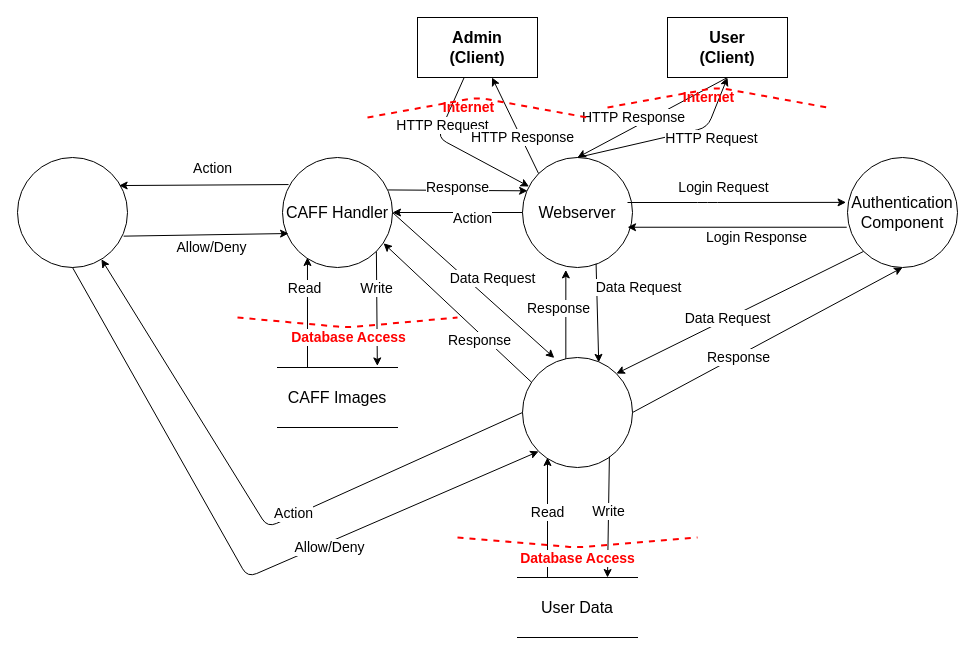
Image size: 975x655. Some labels were removed from this diagram. Here are the shapes that lost their labels. From the top down, the box of each, then its label:
(16, 156, 128, 268): Access Control
(522, 356, 632, 468): User Data Handler
